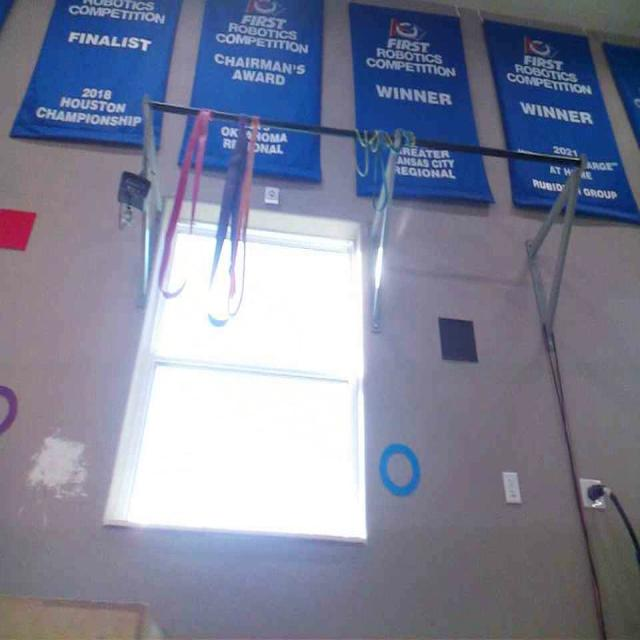ring_blue: (379, 441, 421, 496)
square_black: (436, 317, 478, 363)
square_red: (0, 206, 37, 250)
